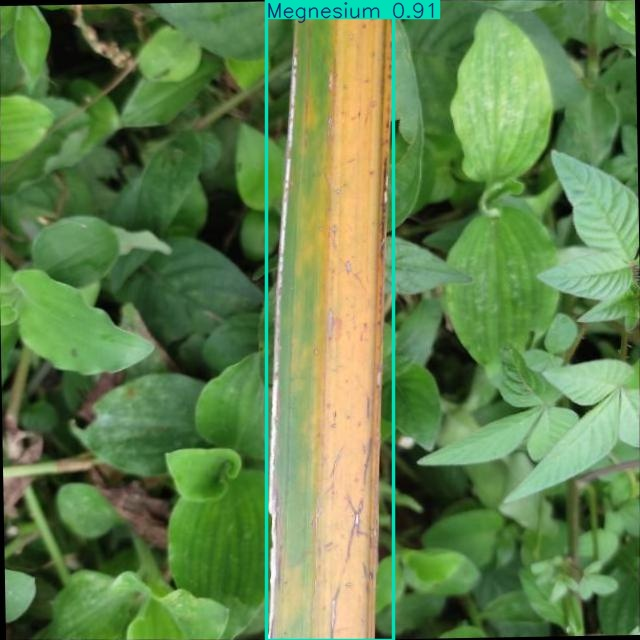Megnesium: (267, 0, 393, 640)
